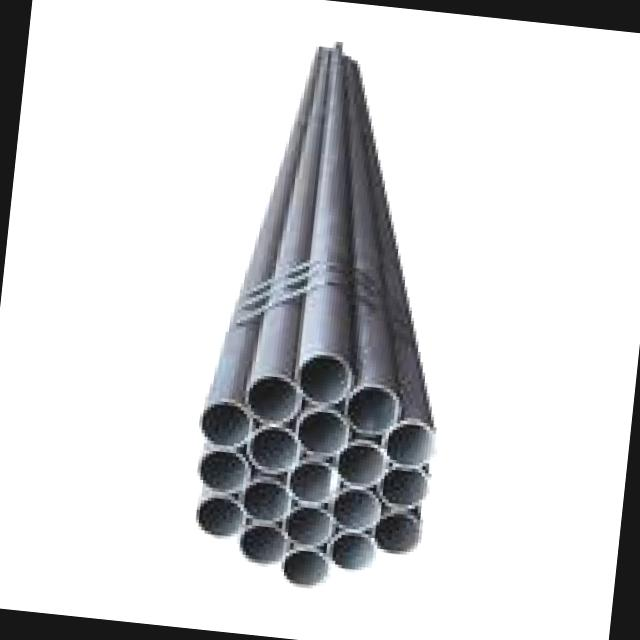gas: (297, 48, 351, 402), (275, 51, 325, 275), (247, 296, 299, 420)
